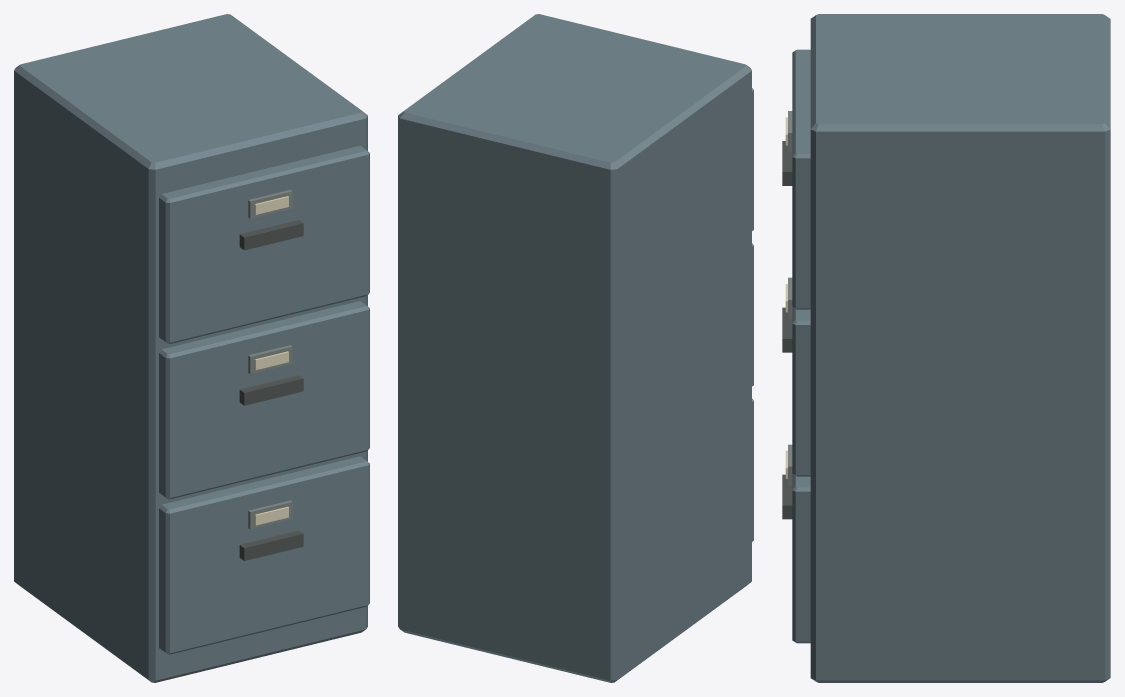
Rendered from WaterworksRegistration_FilingCabinet.fbx.
3 renders of one model, left to right at view 1: azimuth 30°, elevation 25°; view 2: azimuth 150°, elevation 25°; view 3: azimuth 270°, elevation 25°, orthographic. The views are drawn at different scales.
Parts seen in each view (by area): view 1: WaterworksRegistration_FilingCabinet; view 2: WaterworksRegistration_FilingCabinet; view 3: WaterworksRegistration_FilingCabinet.
Boxes of the visible parts, box(x1,y1,x2,y2) form: WaterworksRegistration_FilingCabinet: box(14, 14, 369, 682); WaterworksRegistration_FilingCabinet: box(398, 14, 753, 682); WaterworksRegistration_FilingCabinet: box(782, 14, 1110, 682).
Bounding box in the file's own units: 0.5 × 1.13 × 0.6025.
